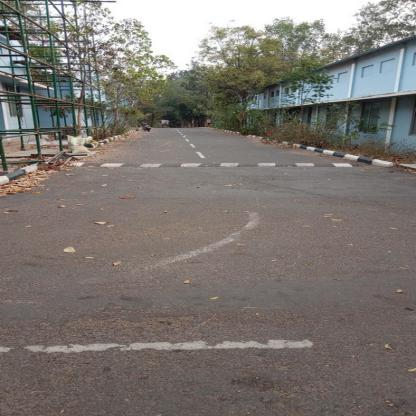speed-bumps: (62, 152, 362, 178)
